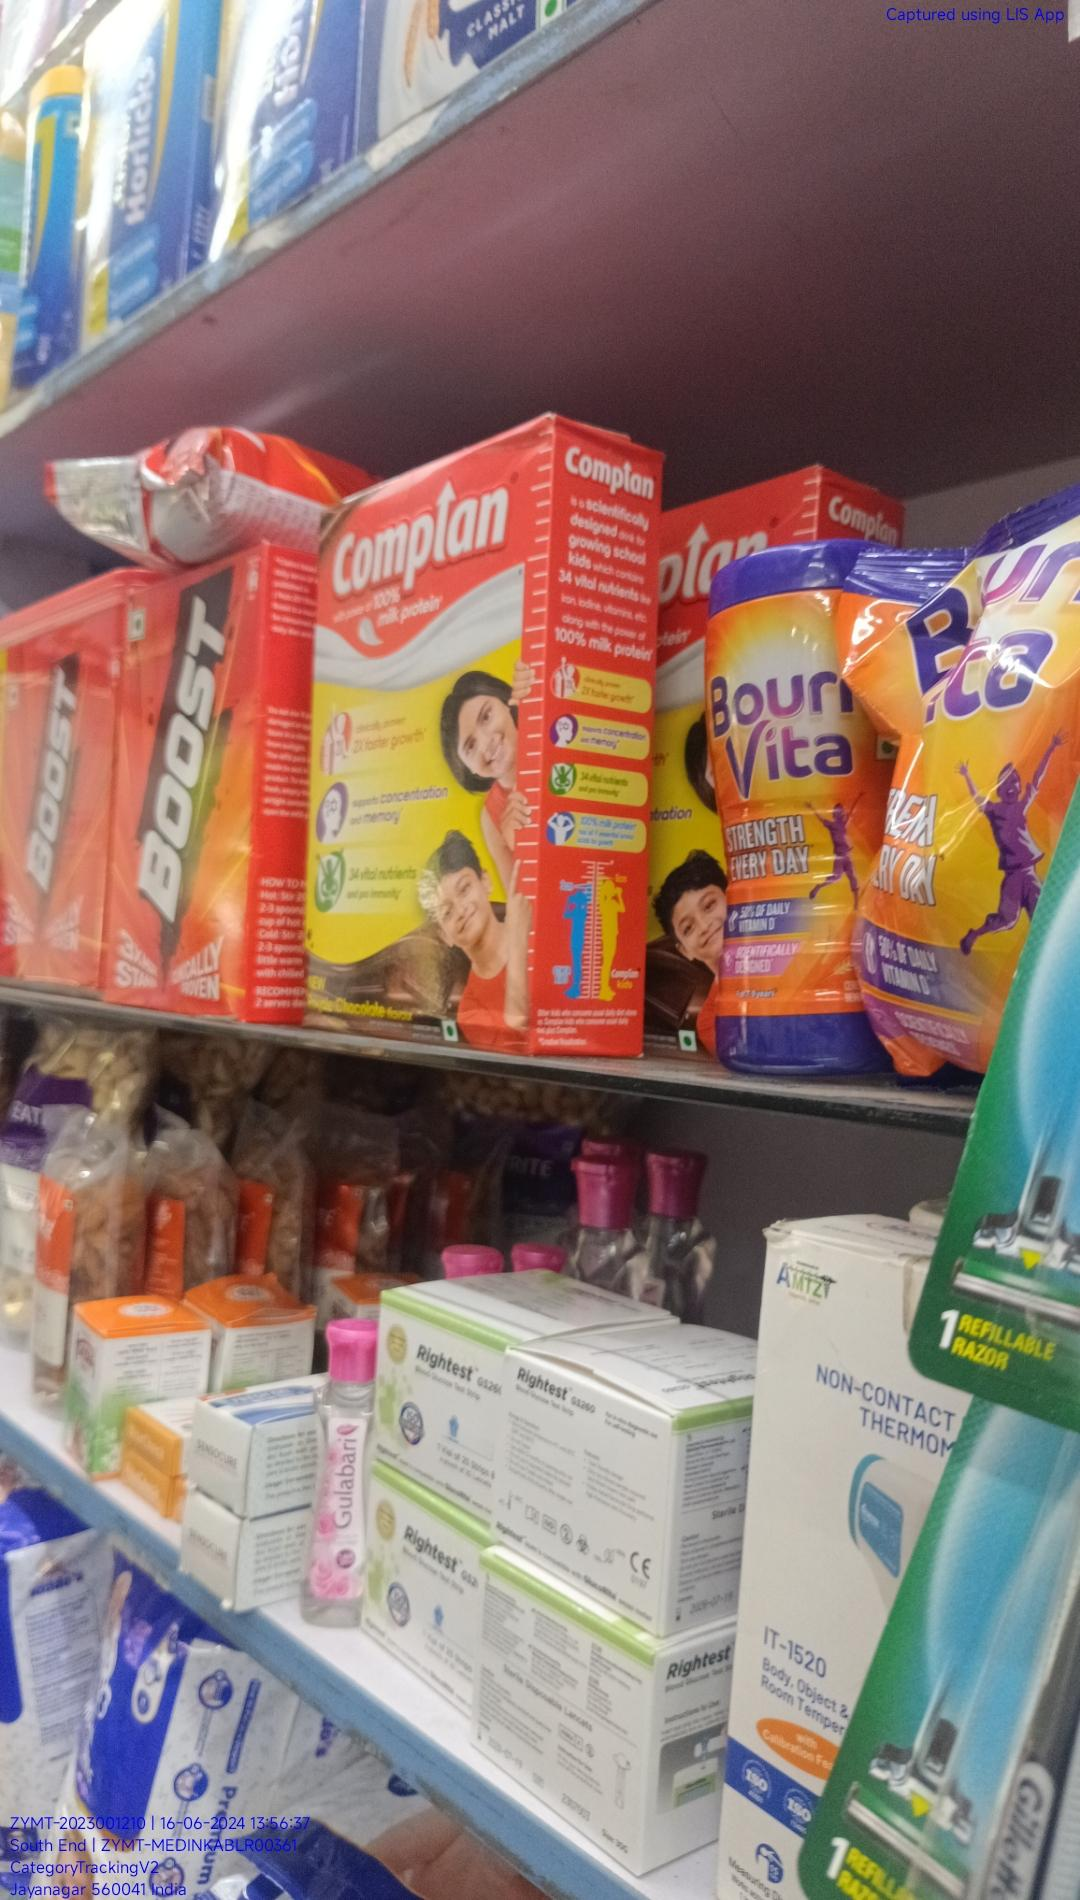BOURN_VITA_500_G_JAR: (704, 556, 870, 1079)
